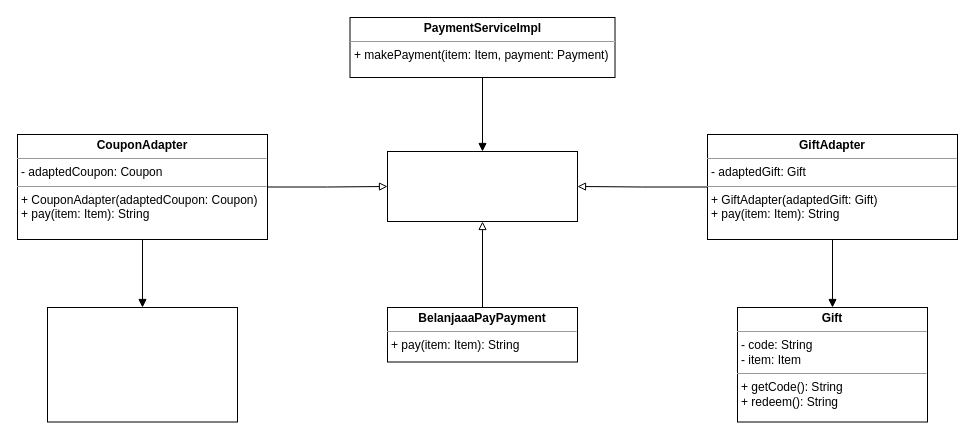
Some shapes in this 975 by 440 pixel diagram are drawn without their labels. The box of each missing label's shape, as (x1, y1, x2, y2) in pixels:
<<Interface>> Payment + pay(item: Item): String: (386, 150, 578, 222)
Coupon - code: String - amount: int + getCode(): String + redeem(): String: (46, 306, 238, 422)
